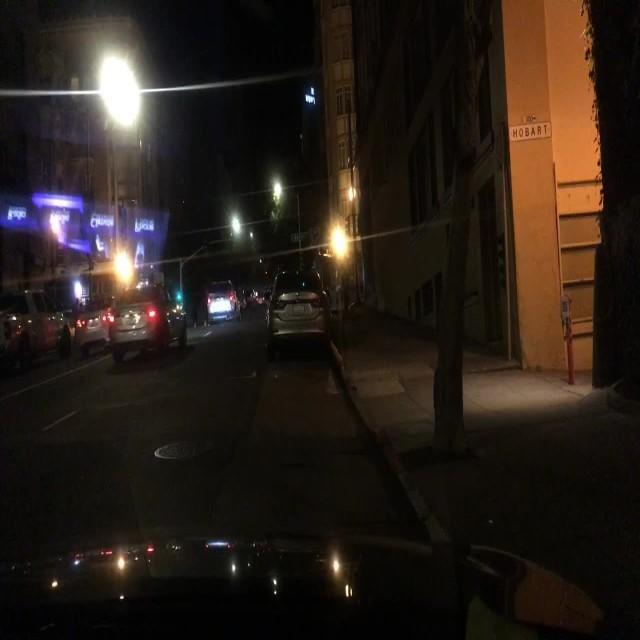normal: (105, 284, 188, 363), (0, 288, 72, 359), (267, 289, 329, 356), (204, 280, 243, 323)
